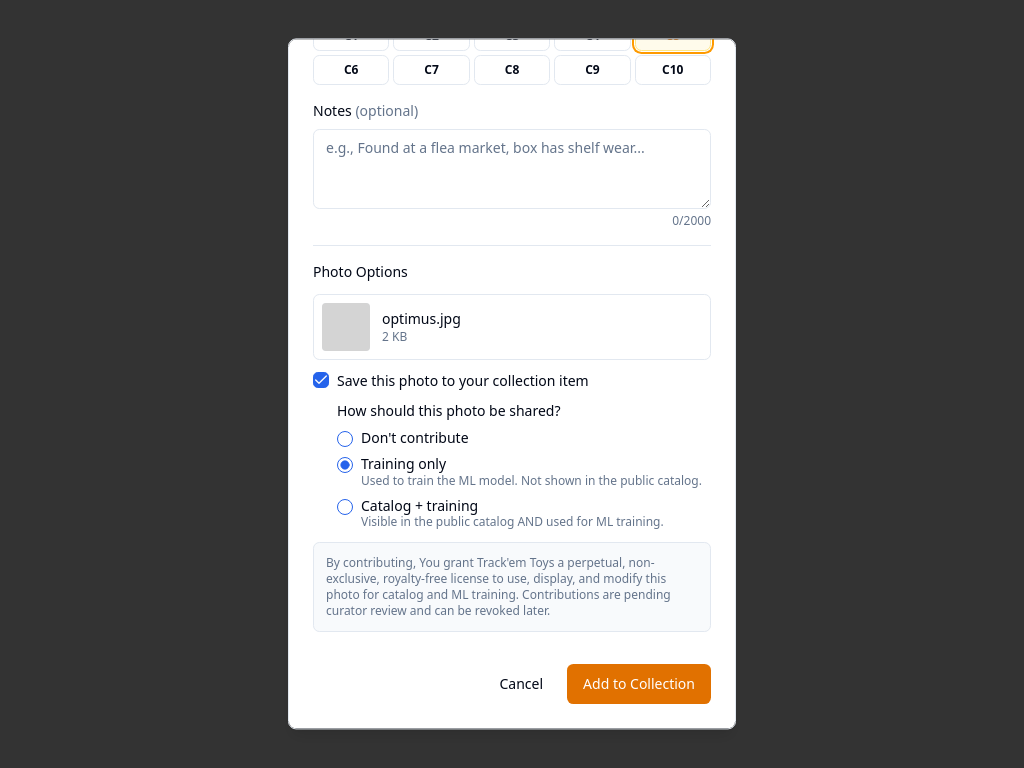
Test: AddToCollectionDialog › resets intent to training_only default when save is toggled back on
(page scrolled)
// Switch to catalog_and_training
Click the radio button named "Catalog + training" next to "Catalog + training": (345, 507) 337,499 -> 353,515
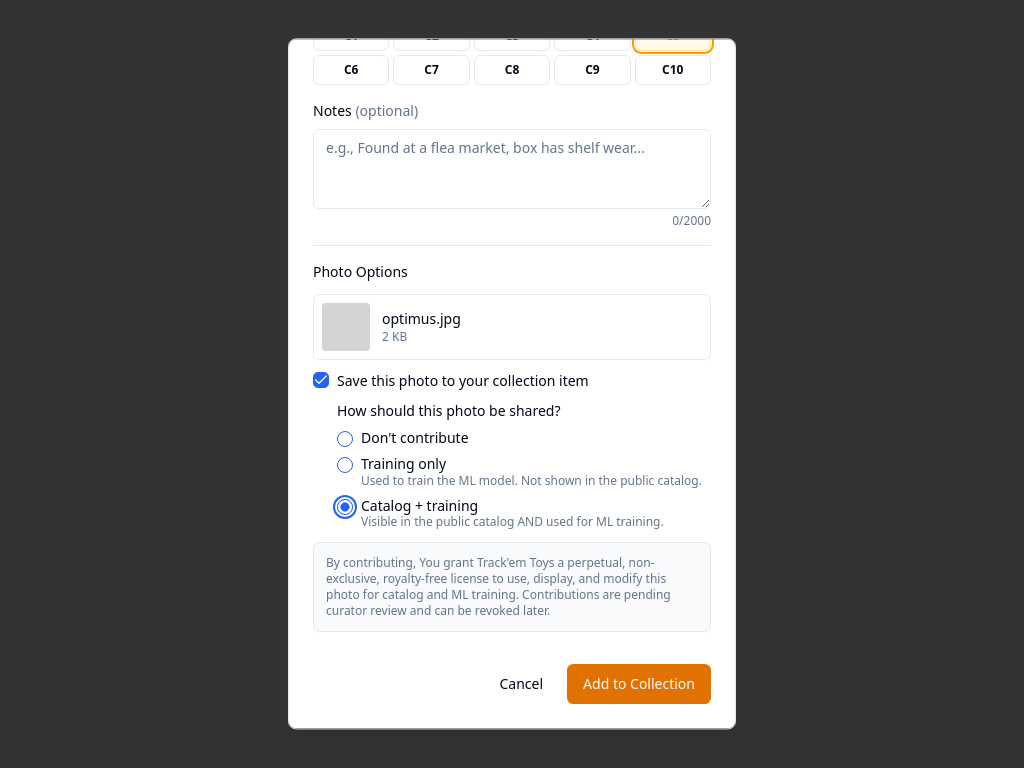
Expected: the radio button named "Catalog + training" next to "Catalog + training" is checked, 337,499 -> 353,515
// Uncheck save, then re-check → intent should be reset to training_only
Click the checkbox named "Save this photo": (321, 380) 313,372 -> 329,388
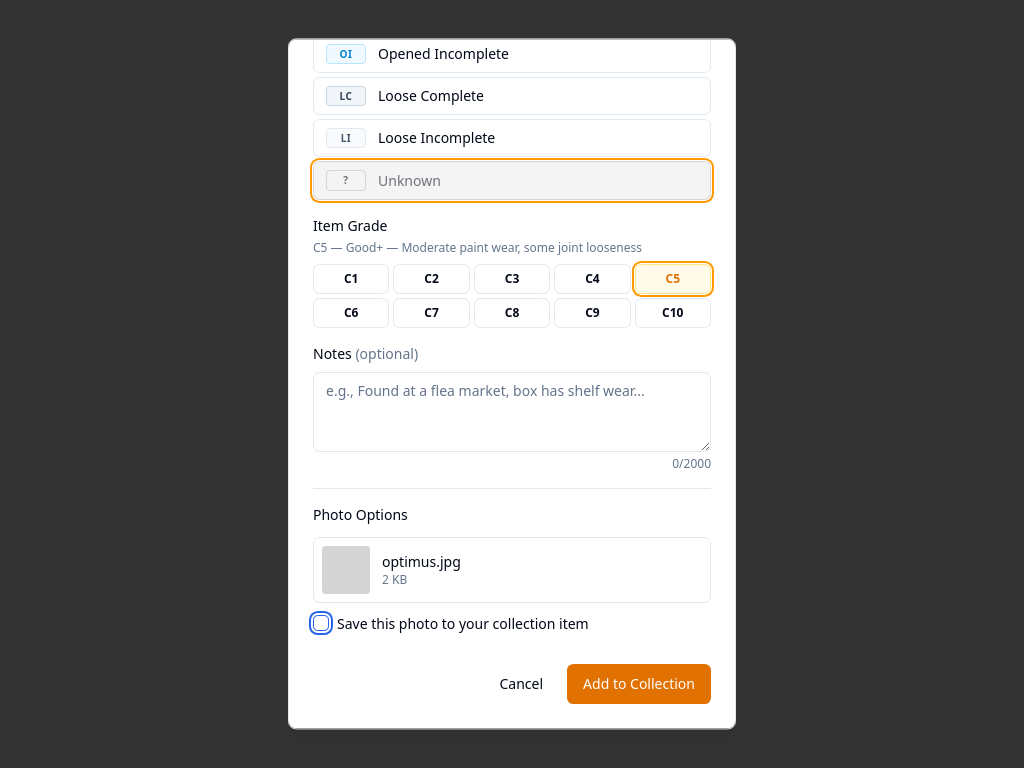
Click the checkbox named "Save this photo": (321, 623) 313,615 -> 329,631
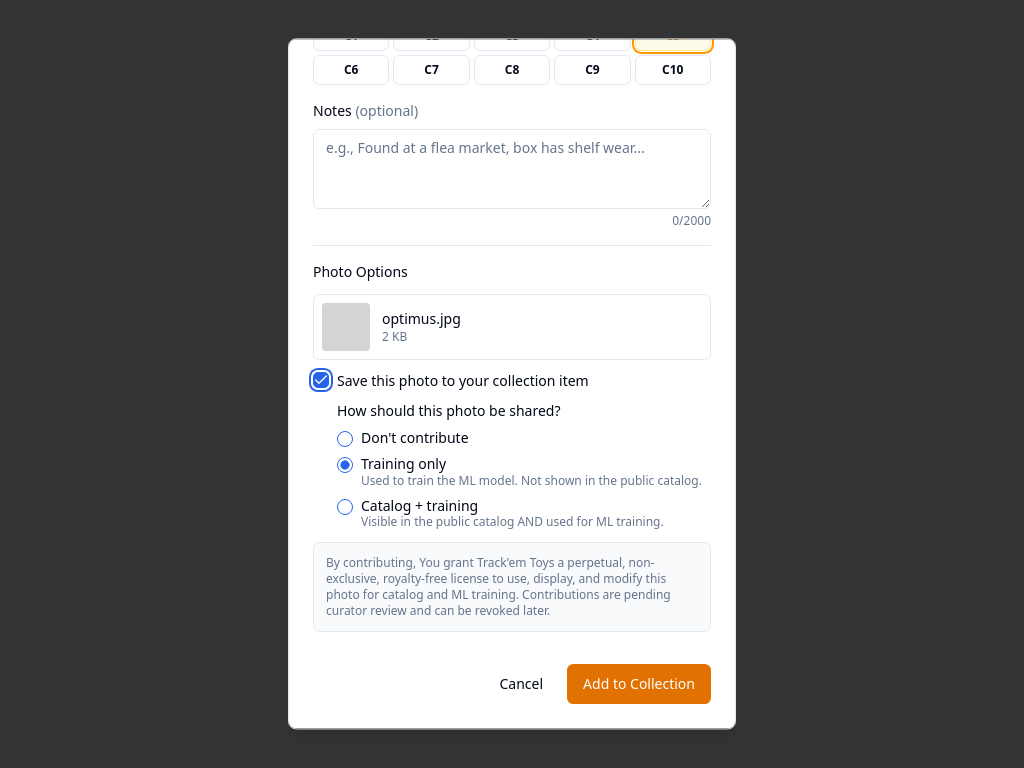
Expected: the radio button named "Training only" next to "Training only" is checked, 337,458 -> 353,474
Expected: the radio button named "Catalog + training" next to "Catalog + training" is not checked, 337,499 -> 353,515
